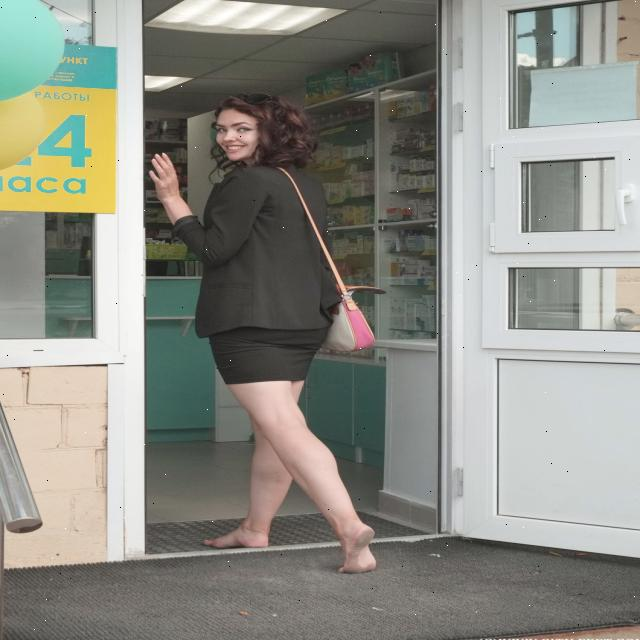No Safety Boots: (338, 524, 376, 574), (203, 531, 269, 548)
